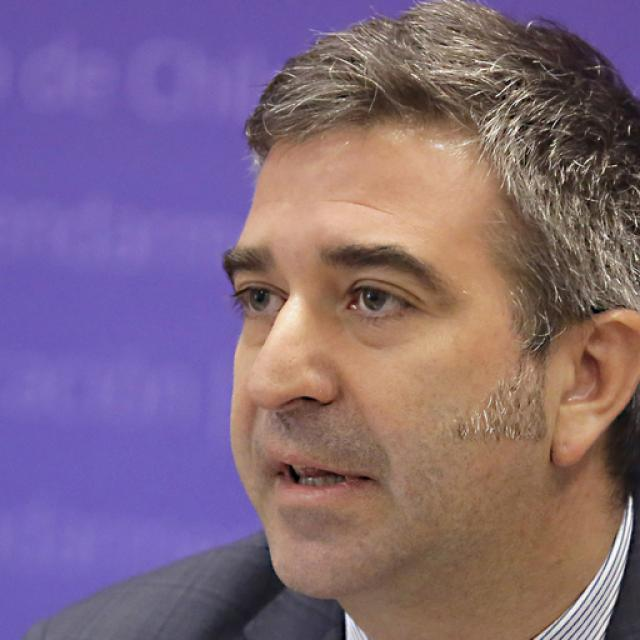surprise: (225, 98, 549, 602)
